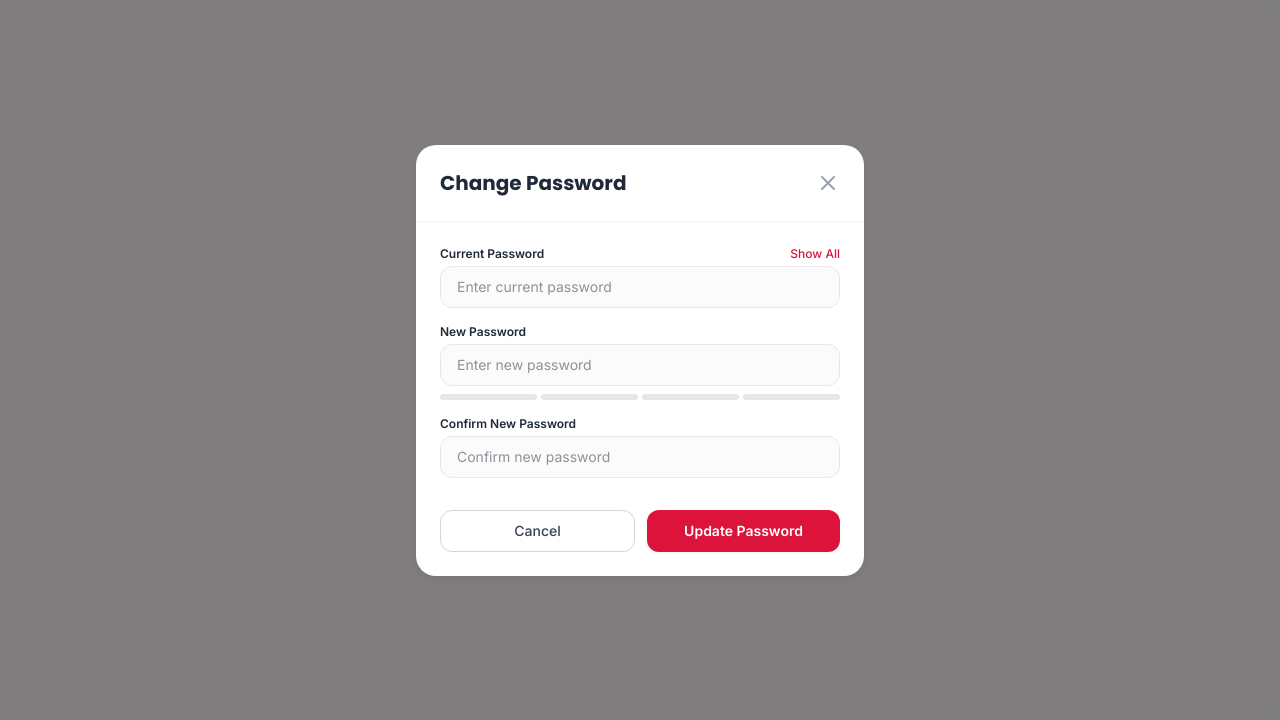
ChangePasswordModal › shows password strength meter for new password
Type a weak password to trigger the strength meter
Step 1. Type "a" into the password field with placeholder "Enter new password" → (640, 364), box [440,344,840,386]
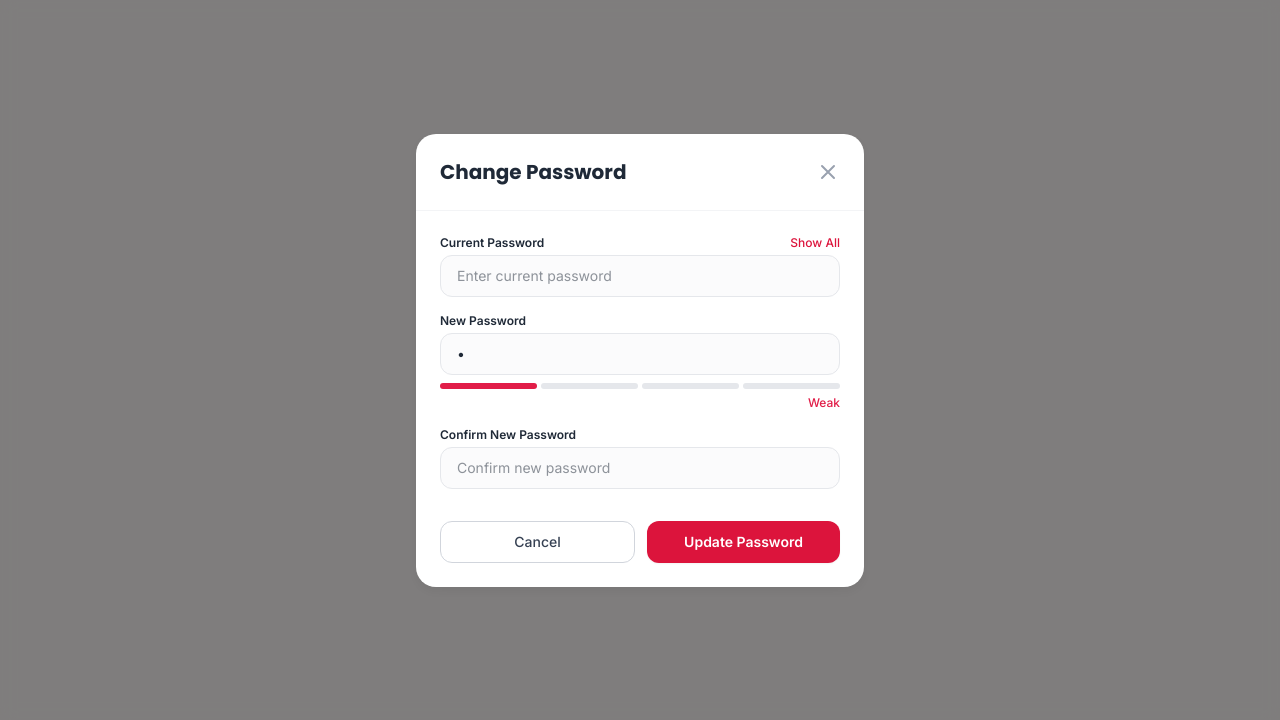
Expected: the text "Weak" is shown, [808,394,840,410]
